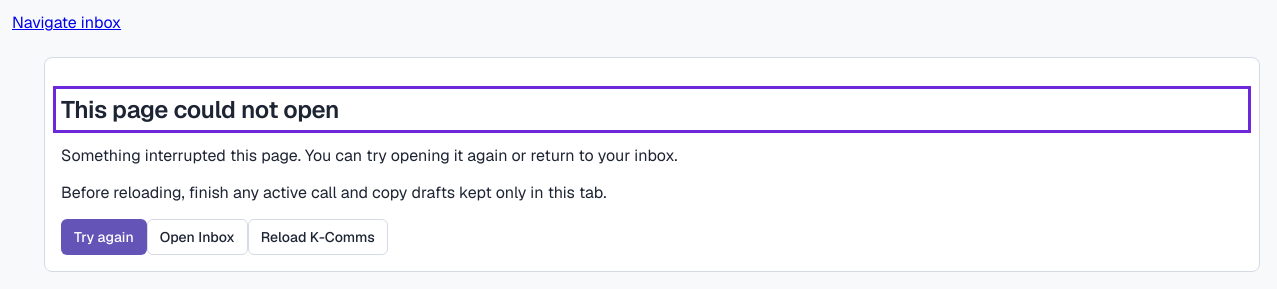
Test: route recovery › resets a failed route on navigation while healthy surrounding state persists
This screenshot has width=1277, height=289.
Click the link "Navigate inbox". click: (67, 22)
box: top-left (12, 12), bottom-right (121, 33)
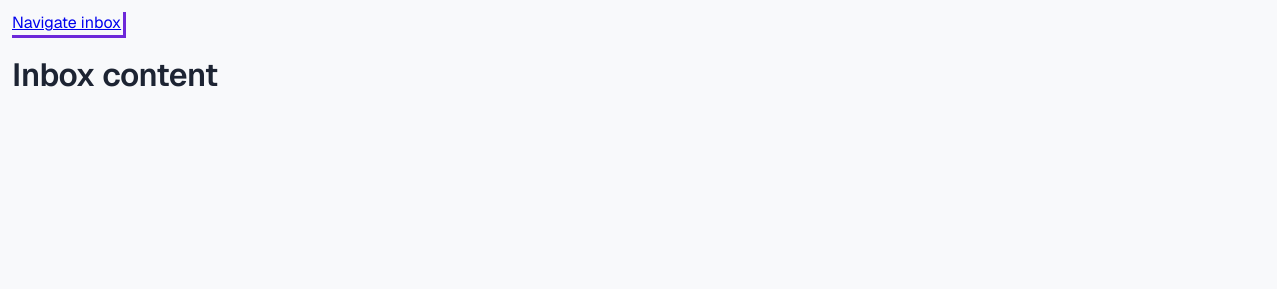
Expected: the heading "Inbox content" is shown, top-left (12, 54), bottom-right (218, 95)
